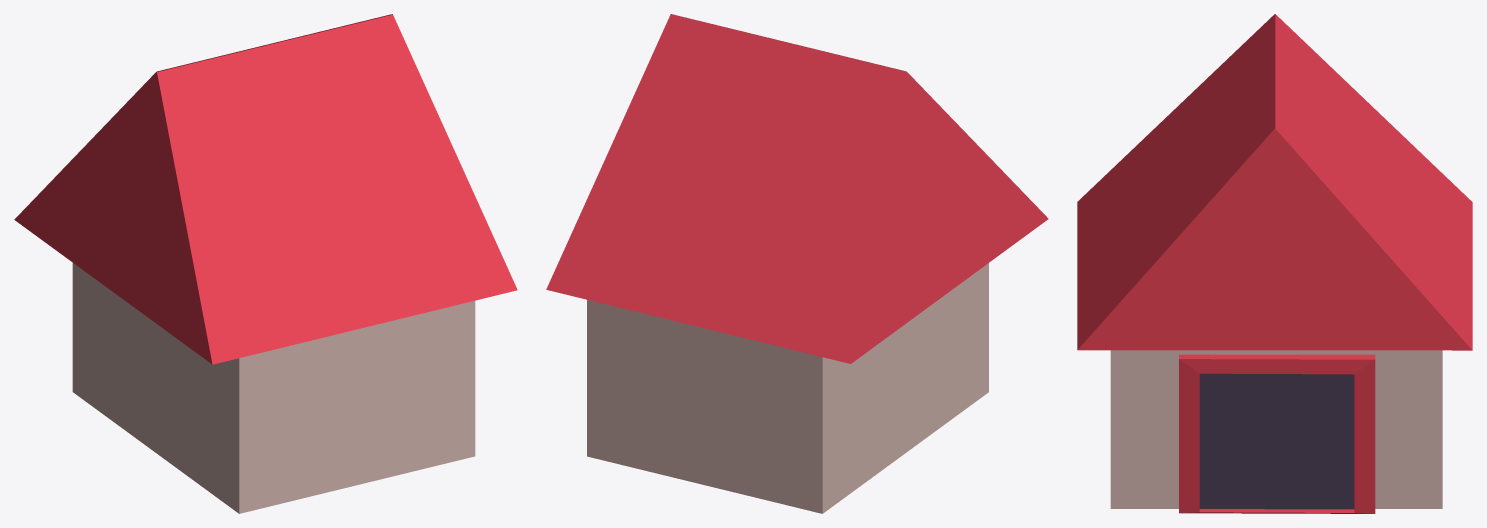
Rendered from casinha de cao.fbx.
The picture shows the model from 3 angles, left to right: view 1: azimuth 30°, elevation 25°; view 2: azimuth 150°, elevation 25°; view 3: azimuth 270°, elevation 25°; orthographic projection.
Visible parts, largest first — view 1: Cube.002; view 2: Cube.002; view 3: Cube.002.
Part boxes in pixels (x1,y1,x2,y2): Cube.002: [14, 14, 517, 513]; Cube.002: [546, 14, 1048, 513]; Cube.002: [1077, 14, 1472, 513].
Size of the model in its own units: 259 by 309 by 291.
3 materials, 3 textured.
